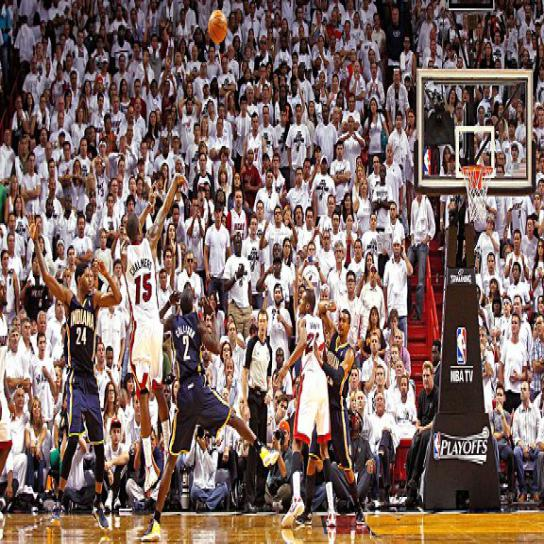basketball-hoop: (462, 164, 493, 224)
